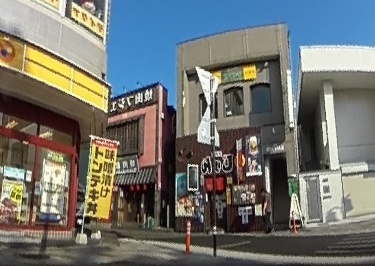person: (258, 186, 273, 231)
